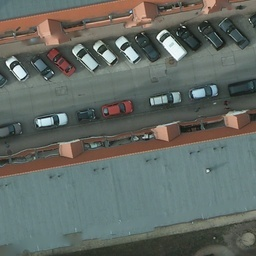car: (225, 71, 256, 105), (220, 21, 250, 50), (115, 36, 142, 66), (74, 43, 101, 73), (135, 33, 162, 62), (48, 49, 74, 77), (4, 56, 29, 84), (199, 22, 223, 51), (34, 111, 69, 130), (100, 98, 133, 118), (175, 26, 202, 50), (96, 40, 118, 69), (31, 55, 53, 82), (148, 92, 183, 107), (0, 121, 26, 141), (189, 83, 217, 101), (76, 107, 98, 124), (0, 60, 8, 89)
van: (156, 28, 188, 62)
